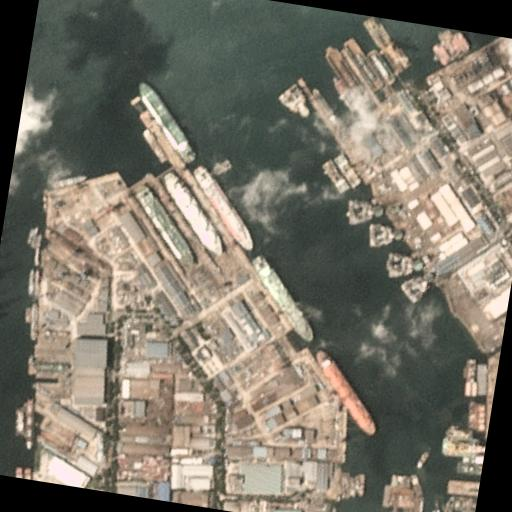ship: (241, 253, 327, 341), (304, 348, 388, 436), (184, 166, 266, 250), (126, 78, 206, 163), (154, 170, 234, 254), (130, 185, 206, 265), (363, 301, 402, 350), (306, 86, 341, 124), (247, 182, 286, 214), (48, 168, 86, 192), (414, 449, 428, 470), (426, 507, 445, 512), (373, 337, 375, 380), (432, 498, 438, 507), (420, 312, 423, 328)
